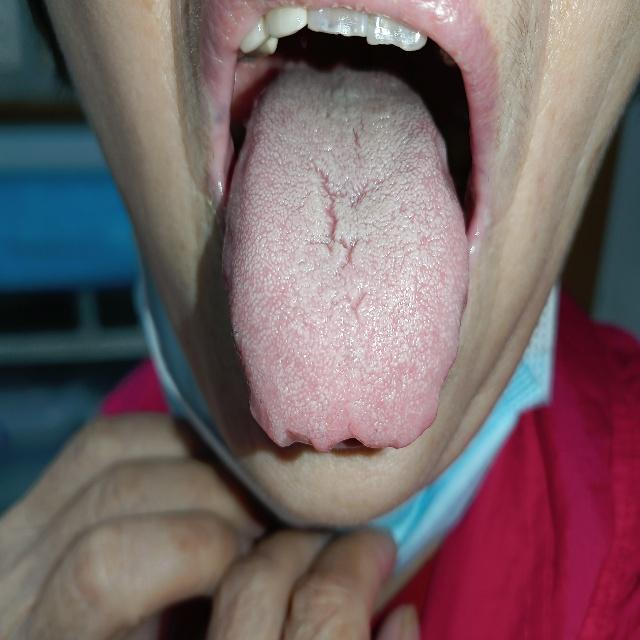baitaishe: (223, 69, 469, 451)
liewenshe: (310, 127, 369, 325)
